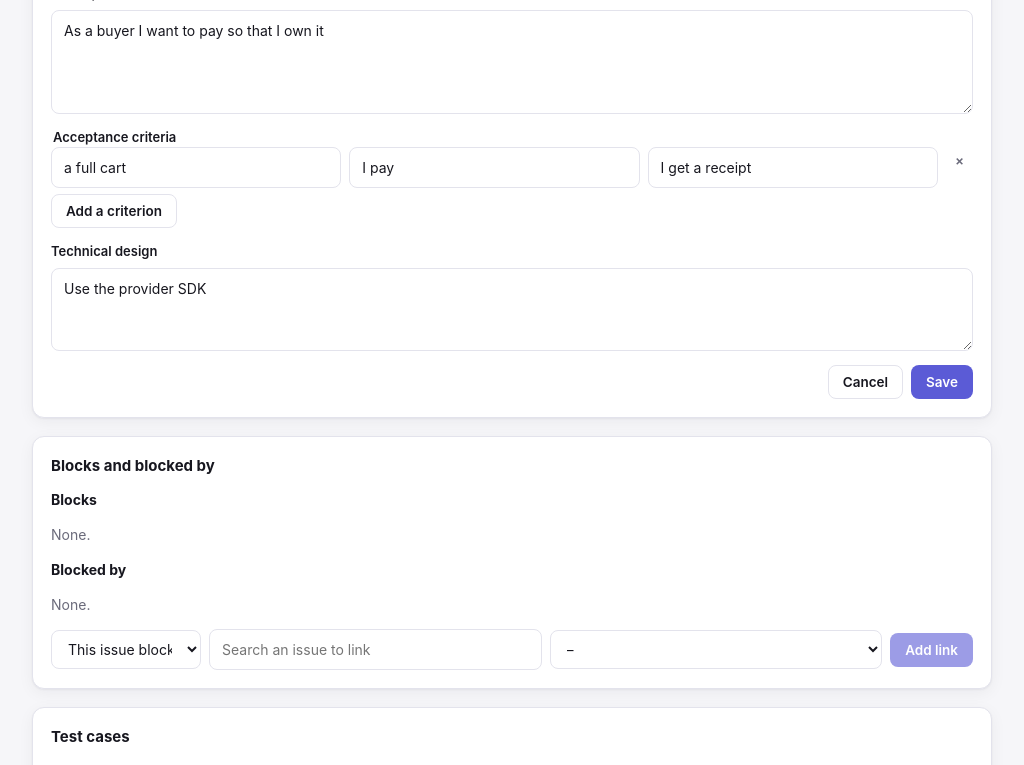
the issue form: type, priority and estimate › refuses a T-shirt size the list does not have
(page scrolled)
Click the button "Save" at (942, 382), box [911,364,973,398]
(page scrolled)
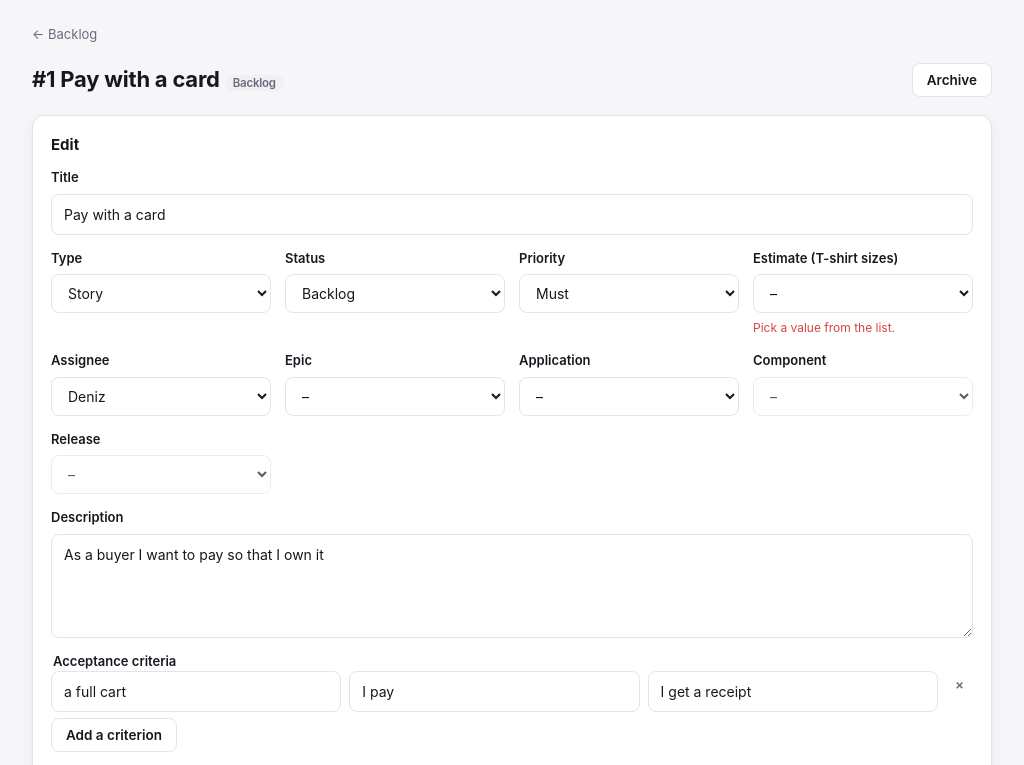
Now the text "Pick a value from the list." is shown, box [753,320,895,335]
